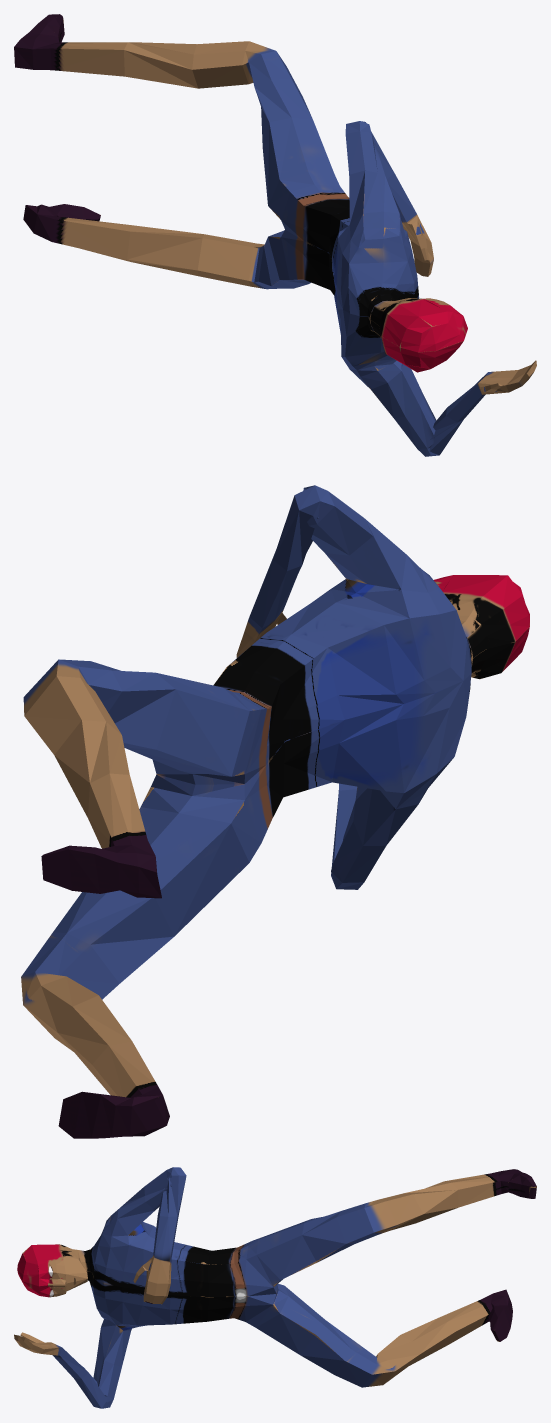
Rendered from mirrorman_000022.obj.
3 renders of one model, top to bottom at view 1: azimuth 30°, elevation 25°; view 2: azimuth 150°, elevation 25°; view 3: azimuth 270°, elevation 25°, orthographic. The views are drawn at different scales.
Visible parts, largest first — view 1: mirrorman_Cube.001_Material.001; view 2: mirrorman_Cube.001_Material.001; view 3: mirrorman_Cube.001_Material.001.
Part boxes in pixels (bbox=[...]): mirrorman_Cube.001_Material.001: bbox=[14, 14, 536, 456]; mirrorman_Cube.001_Material.001: bbox=[21, 485, 529, 1138]; mirrorman_Cube.001_Material.001: bbox=[14, 1167, 536, 1408].
Bounding box in the file's own units: 0.5825 × 0.8464 × 1.73.
1 material, 1 textured.
